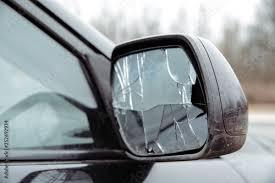Sidemirror-Damage: (101, 27, 264, 168)
